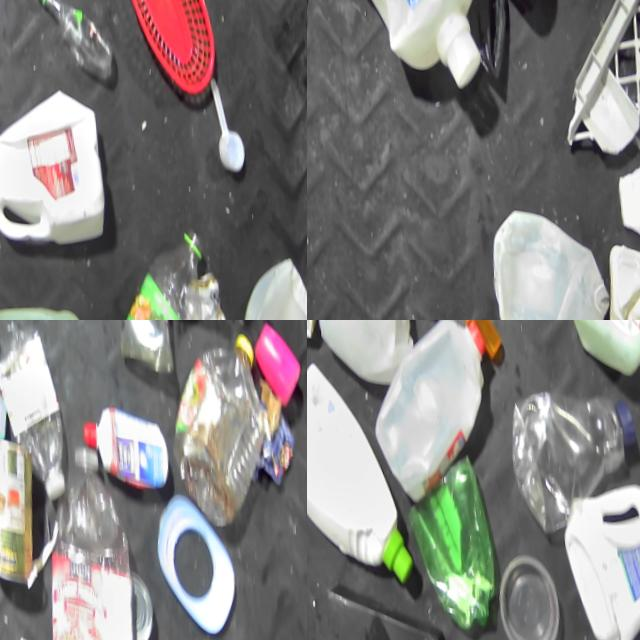can: (0, 428, 43, 592)
milk_jug: (373, 320, 497, 487), (0, 70, 106, 247), (480, 189, 607, 320), (318, 0, 486, 78), (221, 231, 307, 320), (311, 320, 406, 377), (0, 290, 100, 320)
plastic_bottle: (165, 320, 275, 525), (39, 425, 135, 640), (0, 323, 69, 502), (101, 208, 208, 320), (31, 0, 107, 68)
